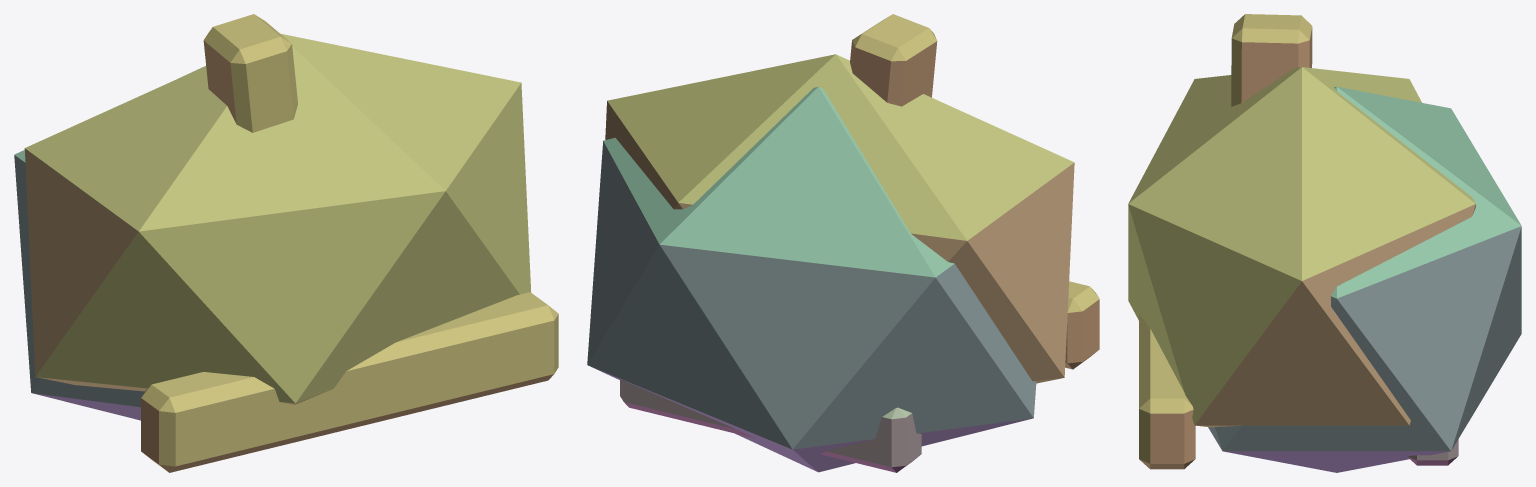
Rendered from npc_module_pauldron_hero_v01.glb.
3 renders of one model, left to right at view 1: azimuth 30°, elevation 25°; view 2: azimuth 150°, elevation 25°; view 3: azimuth 270°, elevation 25°, orthographic. The views are drawn at different scales.
Parts seen in each view (by area): view 1: GEO_npc_module_pauldron_hero_v01; view 2: GEO_npc_module_pauldron_hero_v01; view 3: GEO_npc_module_pauldron_hero_v01.
Part boxes in pixels (x1=…): GEO_npc_module_pauldron_hero_v01: x1=14, y1=14, x2=558, y2=472; GEO_npc_module_pauldron_hero_v01: x1=587, y1=14, x2=1099, y2=472; GEO_npc_module_pauldron_hero_v01: x1=1128, y1=14, x2=1521, y2=472.
Bounding box in the file's own units: 1.22 × 1.09 × 0.9051.
